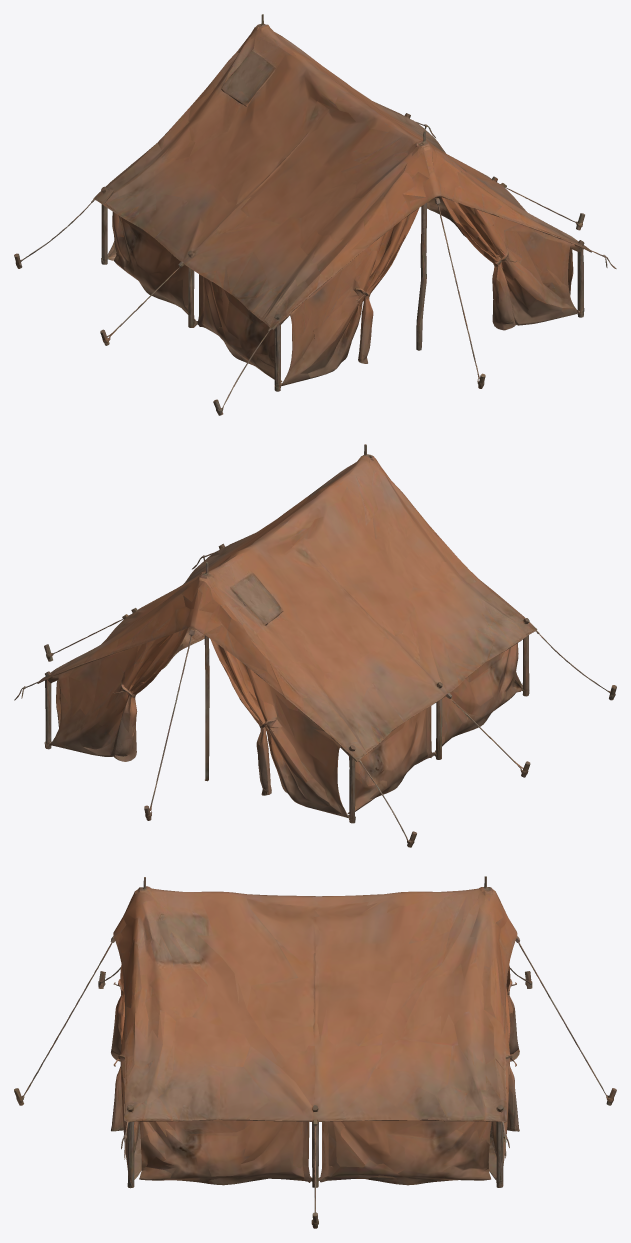
The model's file is sv_tent.glb.
The picture shows the model from 3 angles, top to bottom: view 1: azimuth 30°, elevation 25°; view 2: azimuth 150°, elevation 25°; view 3: azimuth 270°, elevation 25°; orthographic projection. The views are drawn at different scales.
Bounding box in the file's own units: 1.88 × 0.805 × 1.9.
Materials: 1 (1 with a texture image).
